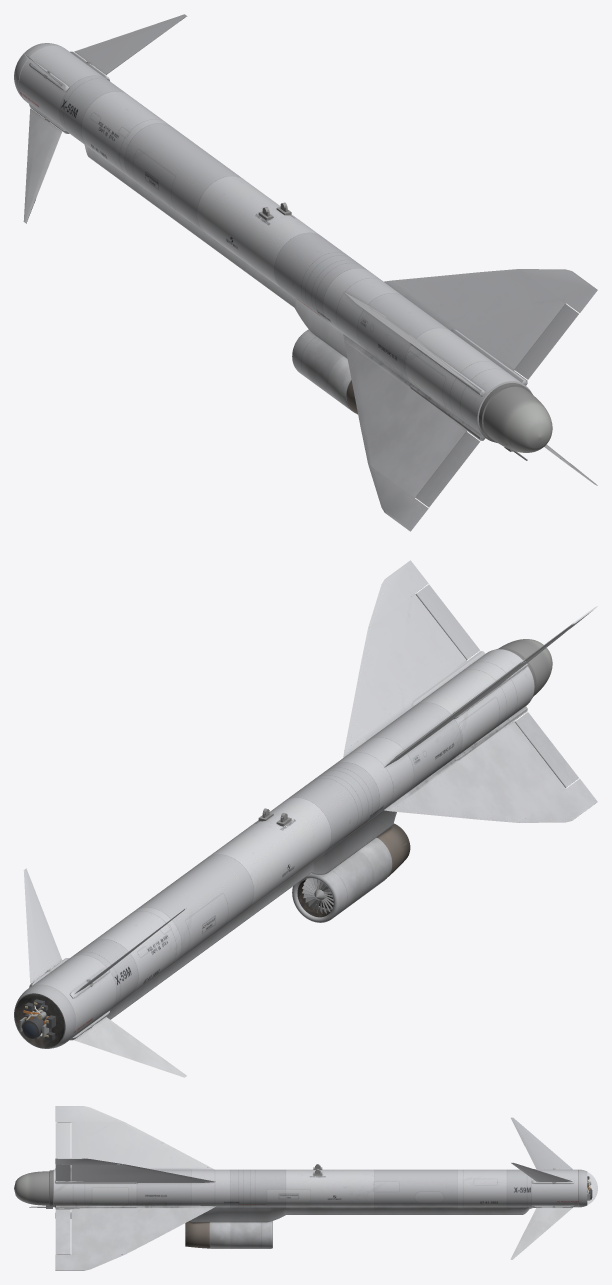
3 renders of one model, top to bottom at view 1: azimuth 30°, elevation 25°; view 2: azimuth 150°, elevation 25°; view 3: azimuth 270°, elevation 25°, orthographic. The views are drawn at different scales.
Parts seen in each view (by area): view 1: body, wing3, wing1, engine, can3, can1, ail3, ail1, wing2; view 2: body, wing3, wing1, engine, can3, can1, ail1, ail3, wing2, seeker; view 3: body, wing4, wing2, engine, wing1, can4, can2, ail4, ail2, can1, ail1.
Boxes of the visible parts, x1,y1,x2,y2 form: body: (14,43,552,460); wing3: (343,334,482,531); wing1: (384,269,597,382); engine: (292,329,357,414); can3: (23,108,62,223); can1: (74,14,186,74); ail3: (415,431,479,507); ail1: (514,304,578,379); wing2: (344,292,482,393); body: (14,639,552,1048); wing3: (384,710,597,822); wing1: (343,560,481,757); engine: (292,823,410,922); can3: (74,1017,186,1077); can1: (23,868,62,983); ail1: (415,584,479,659); ail3: (515,712,578,787); wing2: (384,606,597,767); seeker: (19,999,55,1040); body: (14,1164,587,1222); wing4: (55,1205,215,1270); wing2: (55,1106,214,1169); engine: (185,1221,272,1248); wing1: (55,1158,215,1182); can4: (511,1207,572,1259); can2: (511,1117,572,1169); ail4: (55,1209,70,1254); ail2: (55,1122,70,1158); can1: (511,1162,572,1182); ail1: (55,1164,70,1181).
Size of the model in its own units: 1.09 by 1.11 by 5.1.
10 materials, 3 textured.
